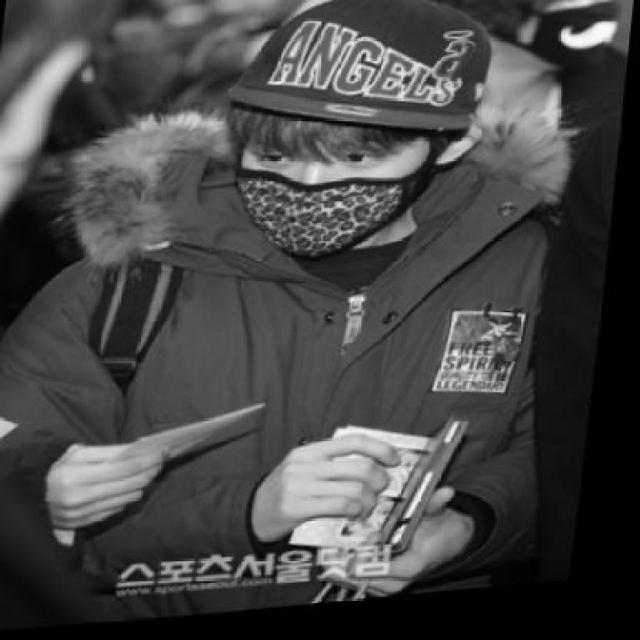hat: (211, 0, 506, 162)
